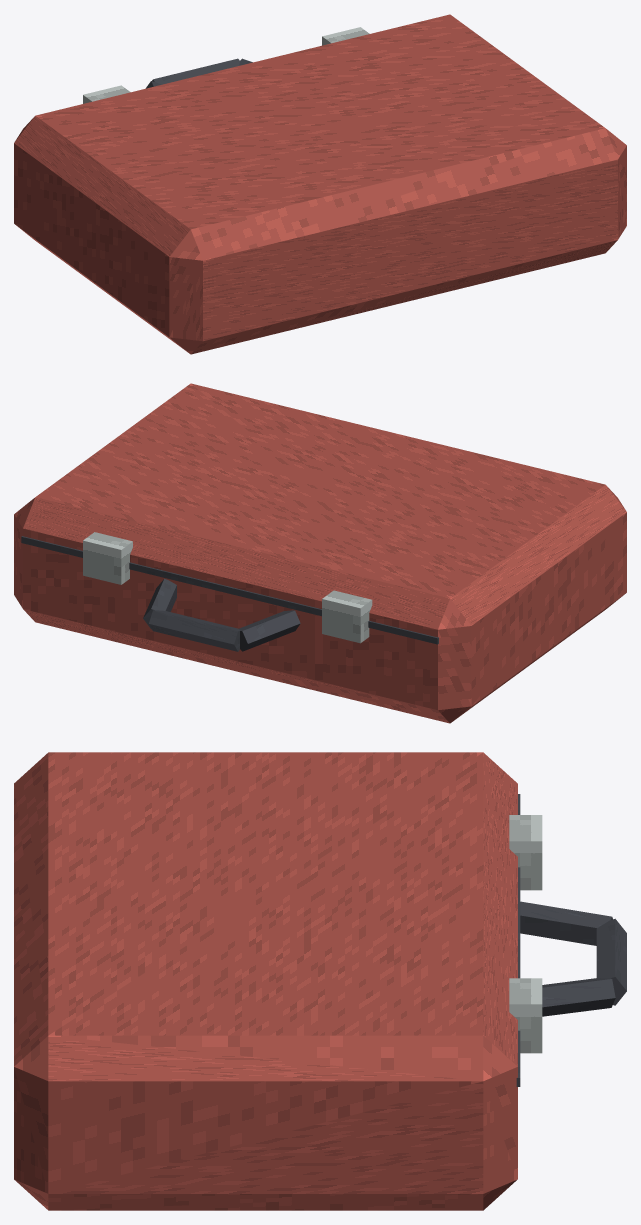
The model's file is toolbox_workshop_empty.glb.
3 views of the same model, one above another, from view 1: azimuth 30°, elevation 25°; view 2: azimuth 150°, elevation 25°; view 3: azimuth 270°, elevation 25° (orthographic). The views are drawn at different scales.
Parts seen in each view (by area): view 1: block_case body, block_carry handle 1; view 2: block_case body, block_latch (×2), block_lid seam, block_carry handle 1, block_carry handle 0, block_carry handle 2; view 3: block_case body, block_latch (×2), block_carry handle 0, block_carry handle 2, block_carry handle 1.
Part boxes in pixels (x1=…): block_case body: x1=14, y1=14, x2=626, y2=354; block_carry handle 1: x1=152, y1=58, x2=239, y2=84; block_case body: x1=14, y1=383, x2=626, y2=723; block_latch (×2): x1=83, y1=532, x2=372, y2=643; block_lid seam: x1=21, y1=536, x2=438, y2=644; block_carry handle 1: x1=149, y1=610, x2=239, y2=651; block_carry handle 0: x1=239, y1=610, x2=300, y2=651; block_carry handle 2: x1=143, y1=578, x2=176, y2=629; block_case body: x1=14, y1=752, x2=517, y2=1210; block_latch (×2): x1=509, y1=815, x2=542, y2=1053; block_carry handle 0: x1=520, y1=901, x2=612, y2=945; block_carry handle 2: x1=542, y1=978, x2=615, y2=1016; block_carry handle 1: x1=596, y1=918, x2=626, y2=1005.
Bounding box in the file's own units: 0.66 × 0.1725 × 0.5475.
1 material, 1 textured.
